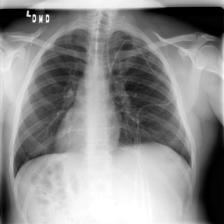normal: (9, 22, 199, 180)
